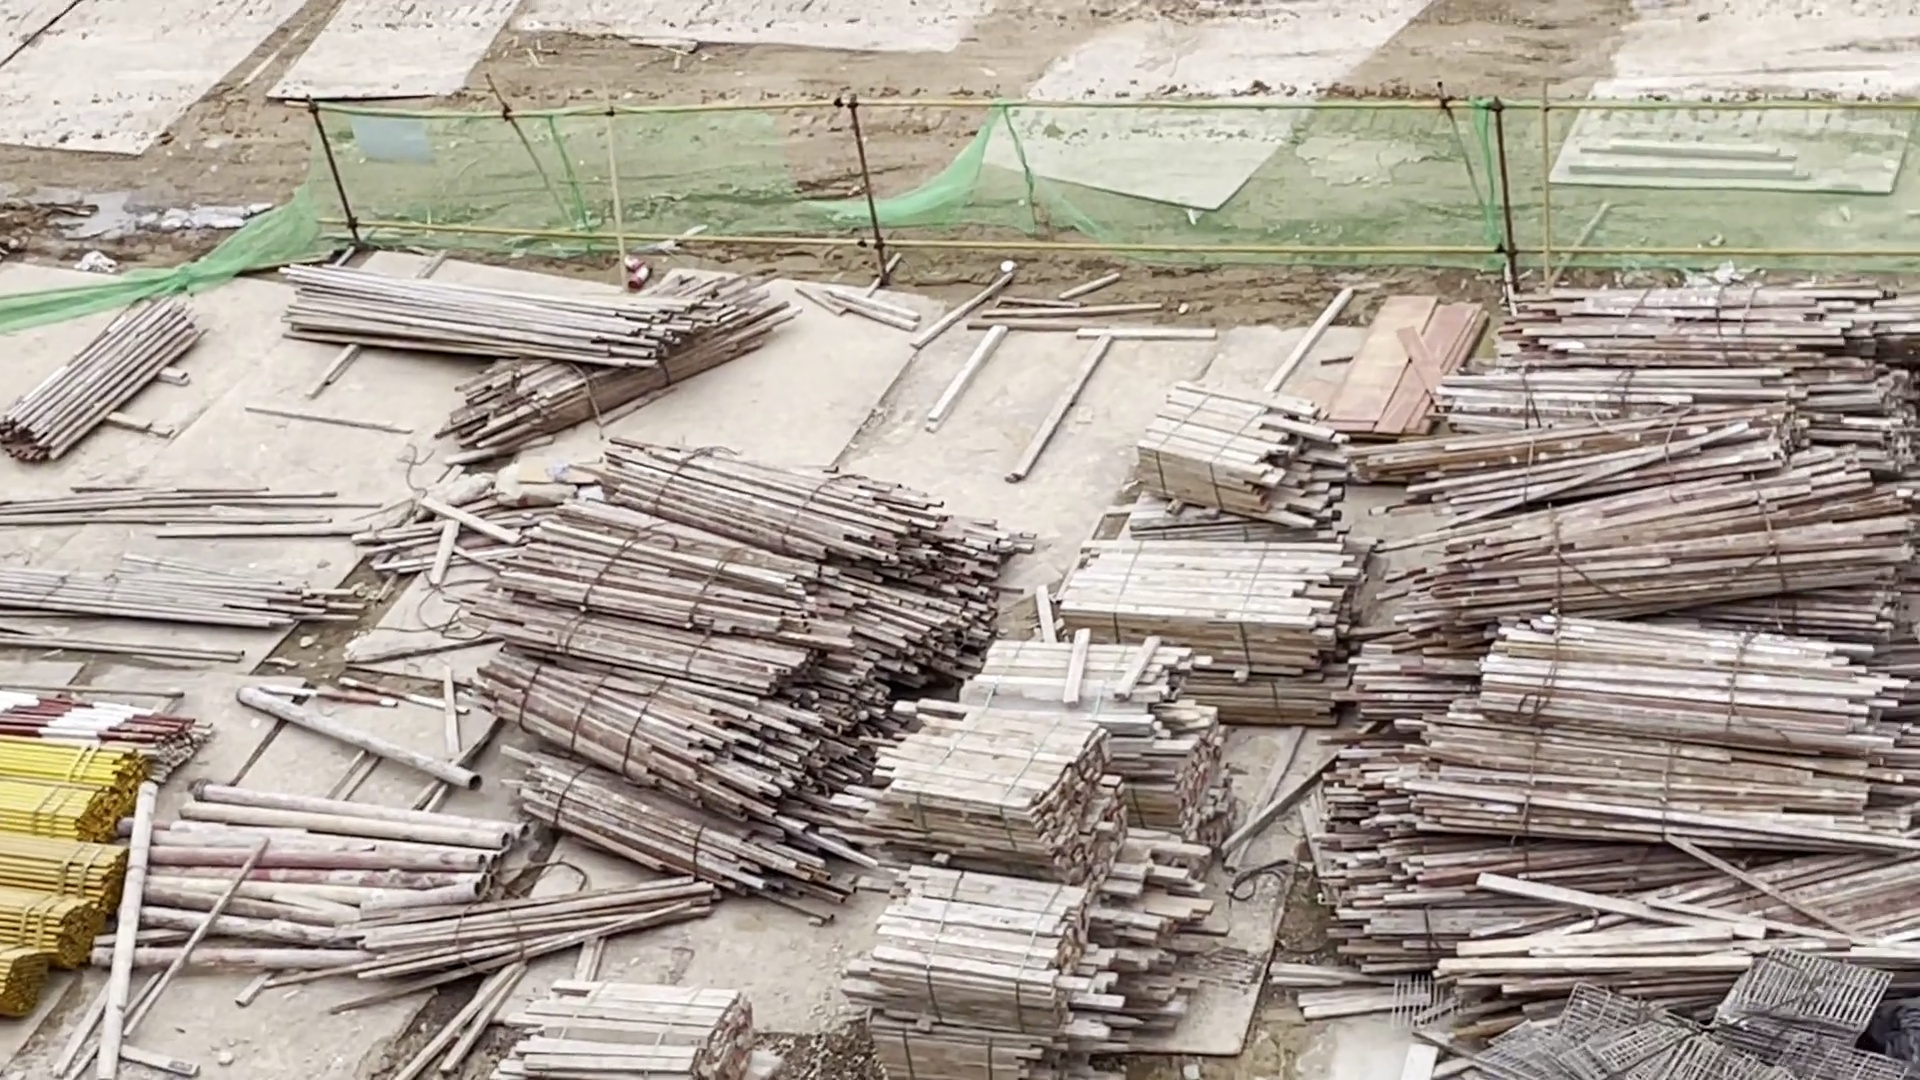board: (1315, 289, 1451, 436)
wood: (1362, 622, 1911, 963), (862, 645, 1261, 1080), (1453, 291, 1920, 611), (547, 460, 882, 899), (278, 248, 789, 431), (1044, 389, 1357, 679), (7, 301, 223, 462), (516, 980, 754, 1080)
